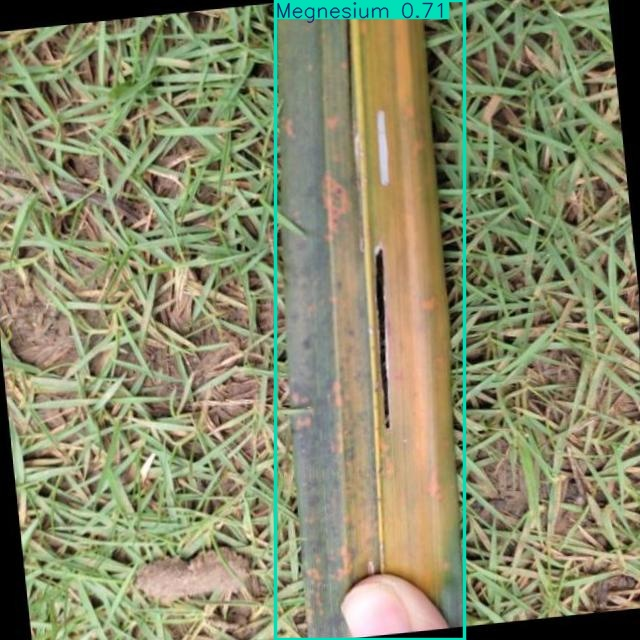Megnesium: (275, 0, 465, 639)
